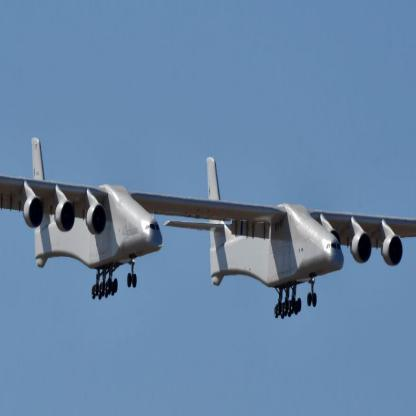CIV_Plane: (1, 135, 415, 322)
